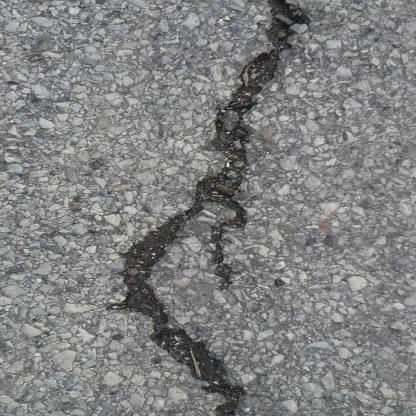Cracks: (111, 0, 310, 416)
